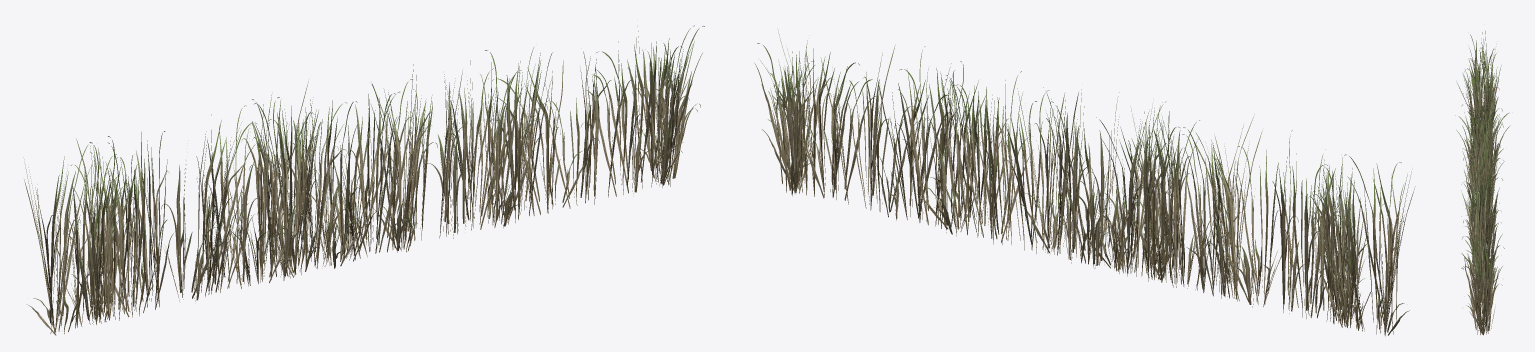
The model's file is runtime-saltgrass.glb.
3 views of the same model, side by side, from view 1: azimuth 30°, elevation 25°; view 2: azimuth 150°, elevation 25°; view 3: azimuth 270°, elevation 25° (orthographic). The views are drawn at different scales.
Visible parts, largest first — view 1: ElephantGrass_Low; view 2: ElephantGrass_Low; view 3: ElephantGrass_Low.
Boxes of the visible parts, box(x1,y1,x2,y2) form: ElephantGrass_Low: box(23, 25, 704, 335); ElephantGrass_Low: box(754, 28, 1415, 336); ElephantGrass_Low: box(1455, 31, 1510, 335).
Bounding box in the file's own units: 17.93 × 4.96 × 2.62.
2 materials, 2 textured.
